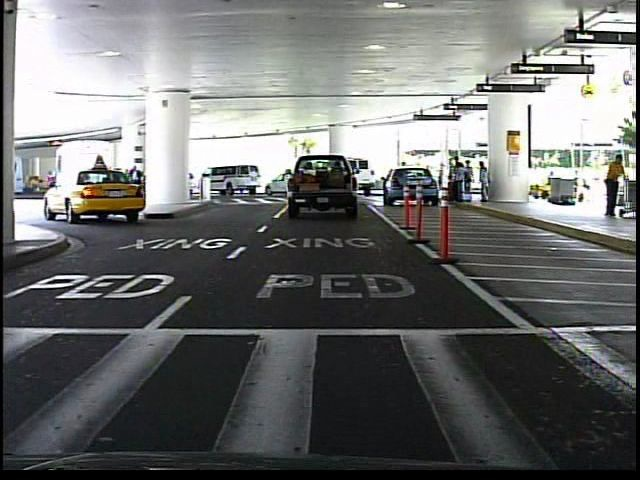person: (600, 149, 629, 221), (397, 158, 412, 198)
